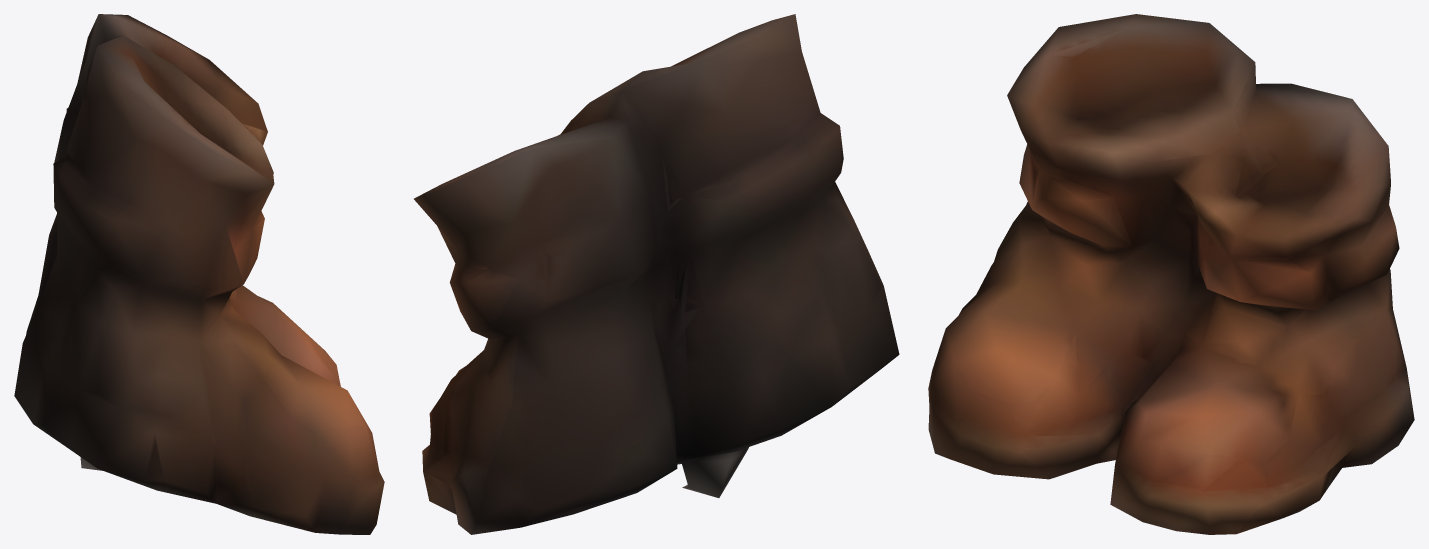
File: boots_copper.glb
The picture shows the model from 3 angles, left to right: view 1: azimuth 30°, elevation 25°; view 2: azimuth 150°, elevation 25°; view 3: azimuth 270°, elevation 25°; orthographic projection. The views are drawn at different scales.
Visible parts, largest first — view 1: model; view 2: model; view 3: model.
Boxes of the visible parts, left/top/right/bottom form: model: left=14, top=14, right=384, bottom=534; model: left=414, top=14, right=899, bottom=534; model: left=928, top=14, right=1414, bottom=534.
Bounding box in the file's own units: 0.2955 × 0.3701 × 0.3966.
Materials: 1 (1 with a texture image).
